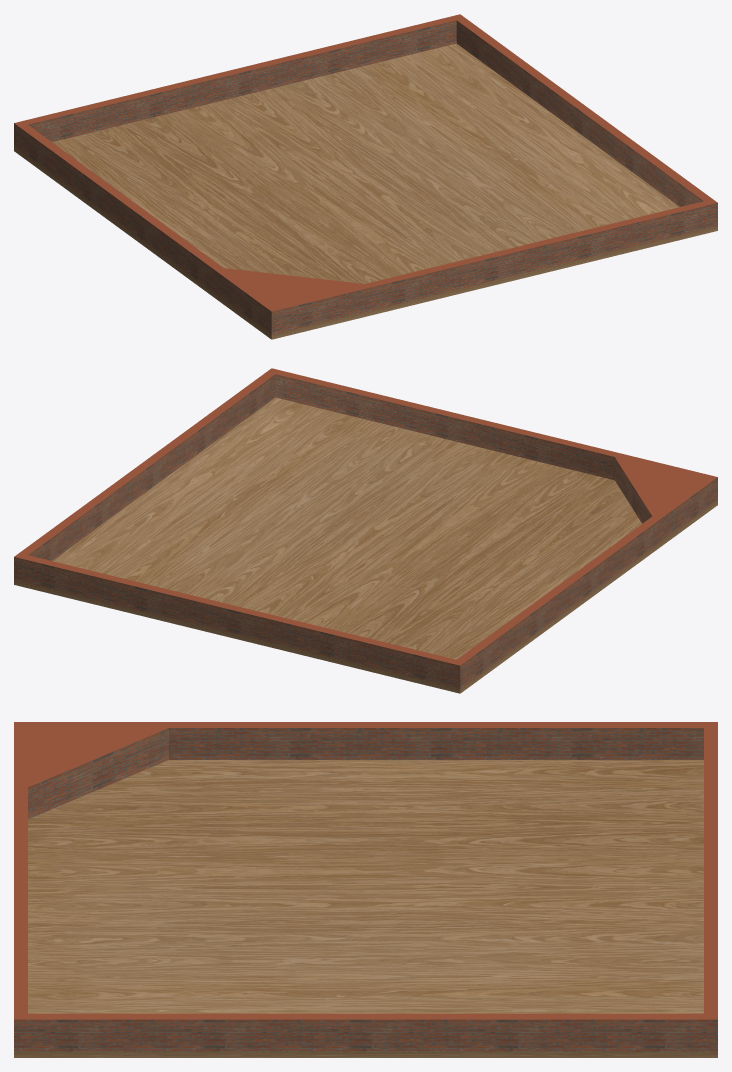
The model's file is low_profile_playground.dae.
The picture shows the model from 3 angles, top to bottom: view 1: azimuth 30°, elevation 25°; view 2: azimuth 150°, elevation 25°; view 3: azimuth 270°, elevation 25°; orthographic projection. The views are drawn at different scales.
Visible parts, largest first — view 1: Floor, Walls; view 2: Floor, Walls; view 3: Floor, Walls.
Part boxes in pixels (bbox=[...]): Floor: bbox=[14, 43, 717, 339]; Walls: bbox=[14, 14, 717, 334]; Floor: bbox=[14, 397, 717, 693]; Walls: bbox=[14, 368, 717, 688]; Floor: bbox=[14, 760, 717, 1057]; Walls: bbox=[14, 722, 717, 1051].
Size of the model in its own units: 10 by 10 by 0.6.
Materials: 3 (2 with a texture image).
